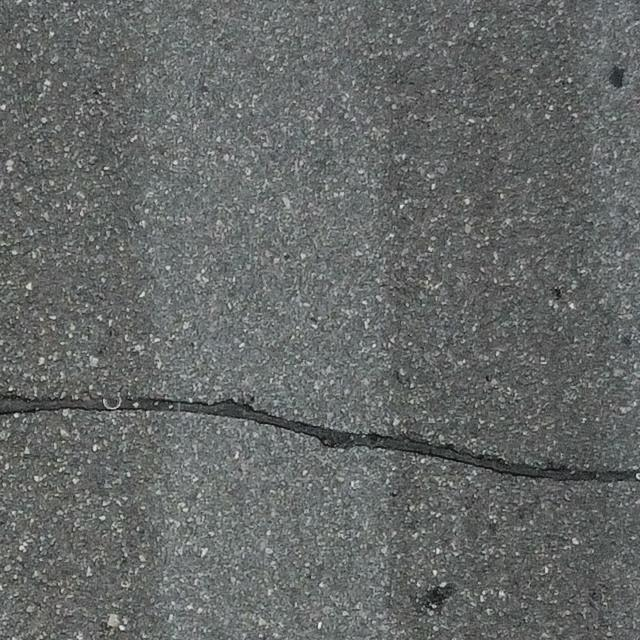TransverseCrack: (1, 393, 640, 482)
